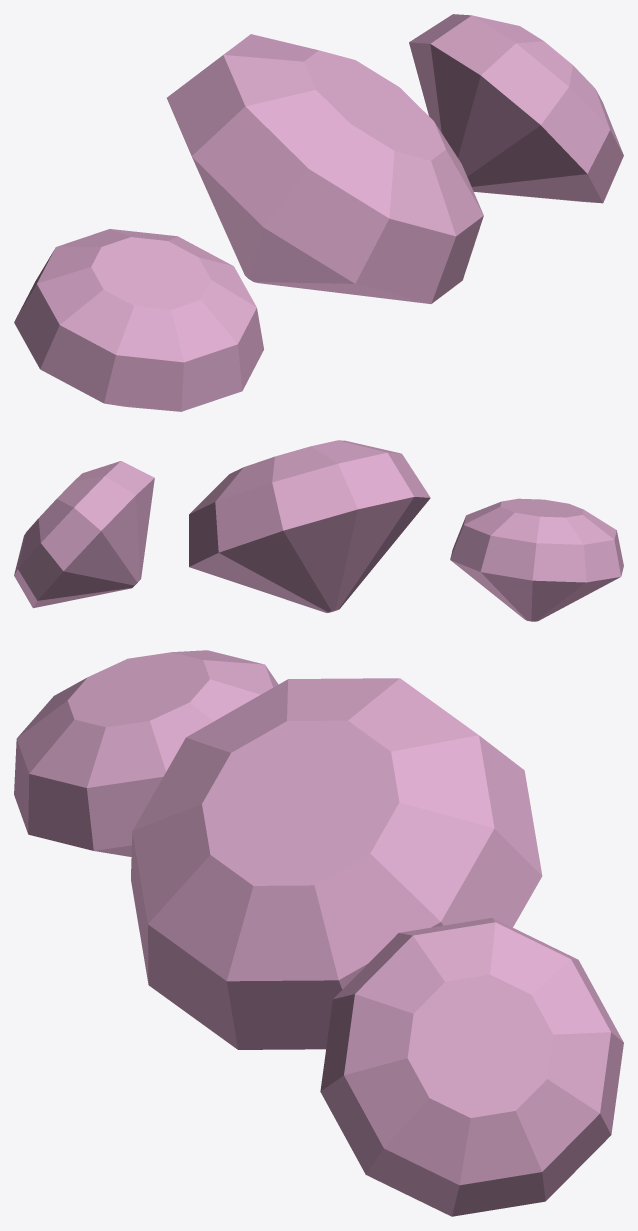
3 renders of one model, top to bottom at view 1: azimuth 30°, elevation 25°; view 2: azimuth 150°, elevation 25°; view 3: azimuth 270°, elevation 25°, orthographic. The views are drawn at different scales.
Visible parts, largest first — view 1: TI037 / individually faceted stone 1, TI037 / individually faceted stone 0, TI037 / individually faceted stone 2; view 2: TI037 / individually faceted stone 1, TI037 / individually faceted stone 0, TI037 / individually faceted stone 2; view 3: TI037 / individually faceted stone 1, TI037 / individually faceted stone 2, TI037 / individually faceted stone 0.
Part boxes in pixels (x1,y1,x2,y2): TI037 / individually faceted stone 1: [167, 34, 483, 303]; TI037 / individually faceted stone 0: [14, 229, 263, 411]; TI037 / individually faceted stone 2: [409, 14, 623, 203]; TI037 / individually faceted stone 1: [189, 440, 430, 612]; TI037 / individually faceted stone 0: [450, 498, 623, 621]; TI037 / individually faceted stone 2: [14, 461, 154, 608]; TI037 / individually faceted stone 1: [131, 678, 542, 1049]; TI037 / individually faceted stone 2: [320, 918, 623, 1216]; TI037 / individually faceted stone 0: [14, 650, 278, 856].
Bounding box in the file's own units: 2.54 × 0.8889 × 1.57.
